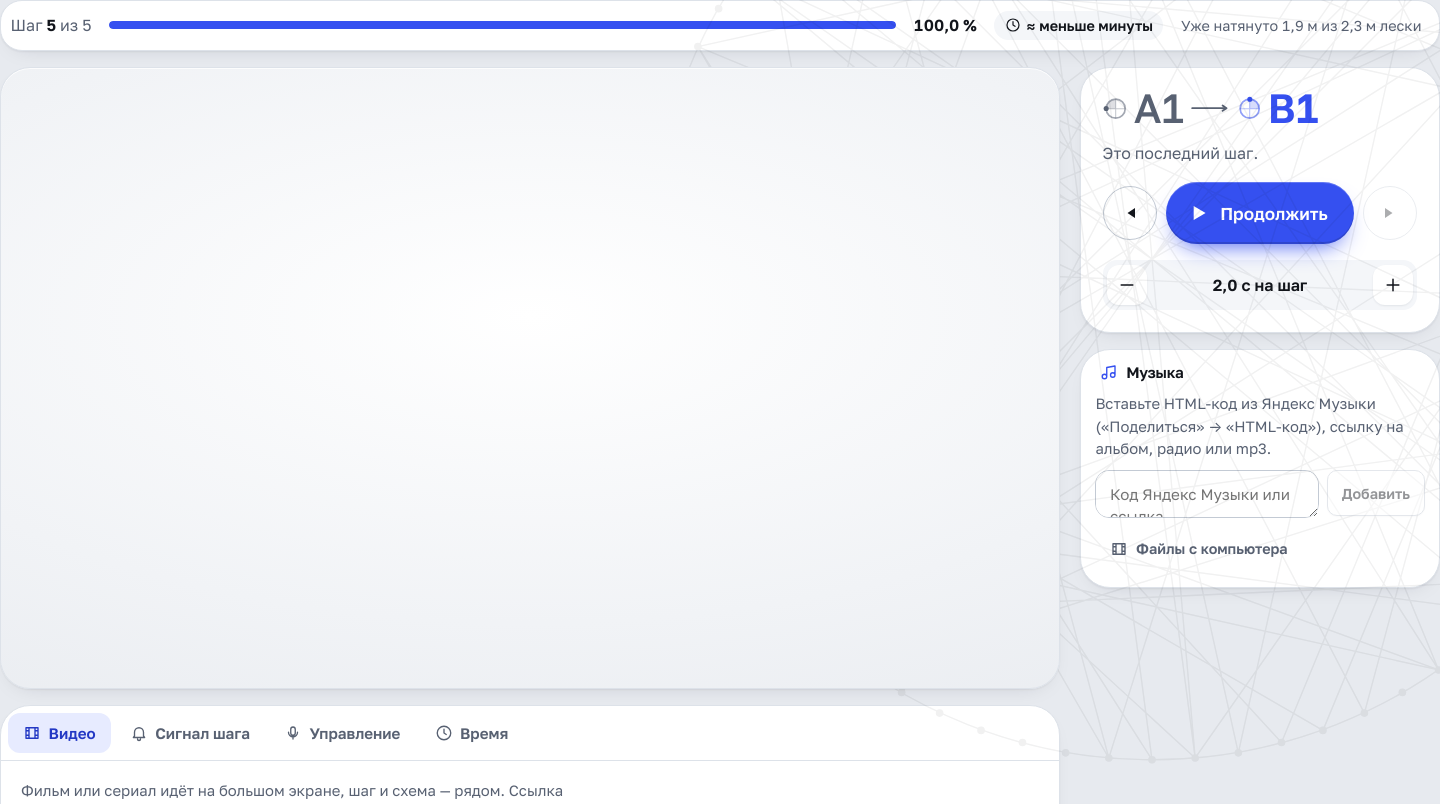
WeavePlayer › на последнем шаге останавливается и пишет «Готово»
This screenshot has width=1440, height=804.
// «Продолжить»
Click the button "Продолжить".
click(1260, 213)  # box [1166,182,1354,244]
Wait 2000 ms
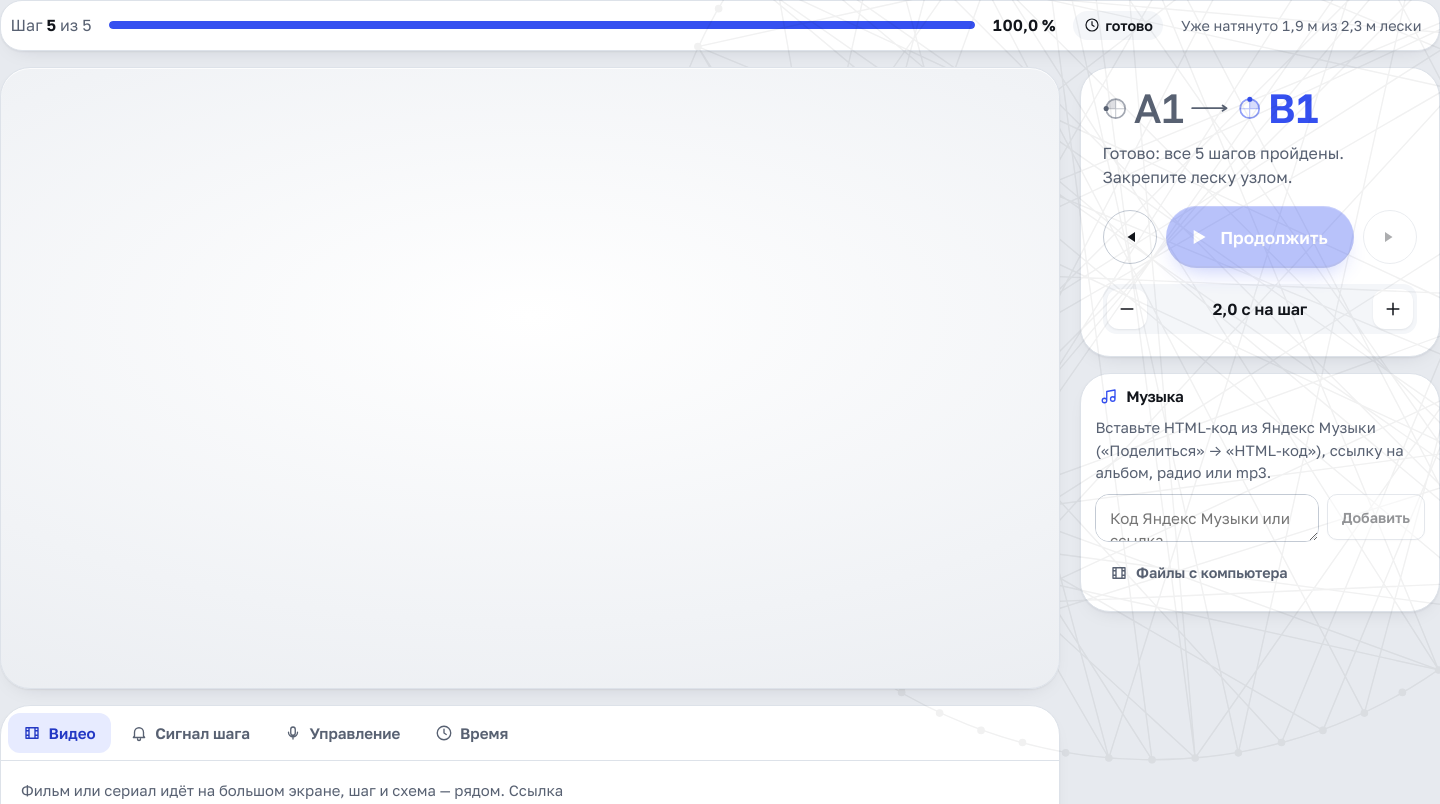
Expected: the text "Готово: все 5 шагов пройдены. Закрепите леску узлом." is shown, [1103,143,1344,187]
